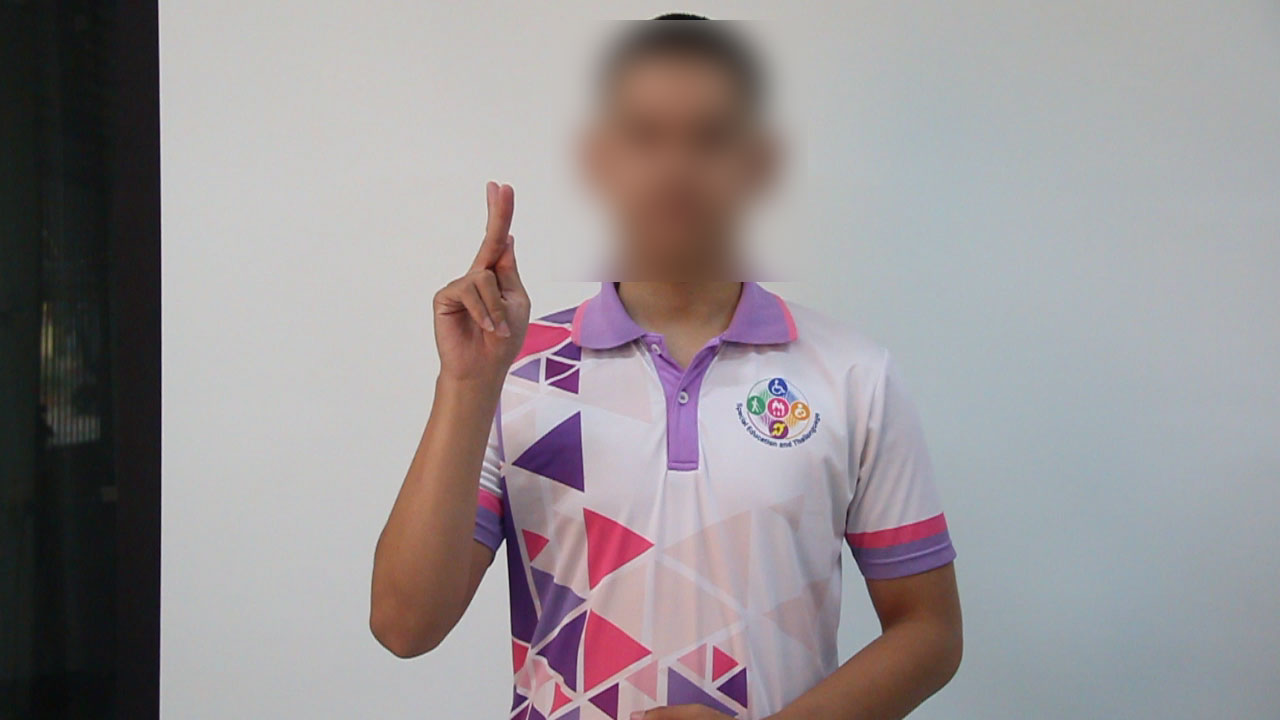ko: (421, 175, 557, 385)
